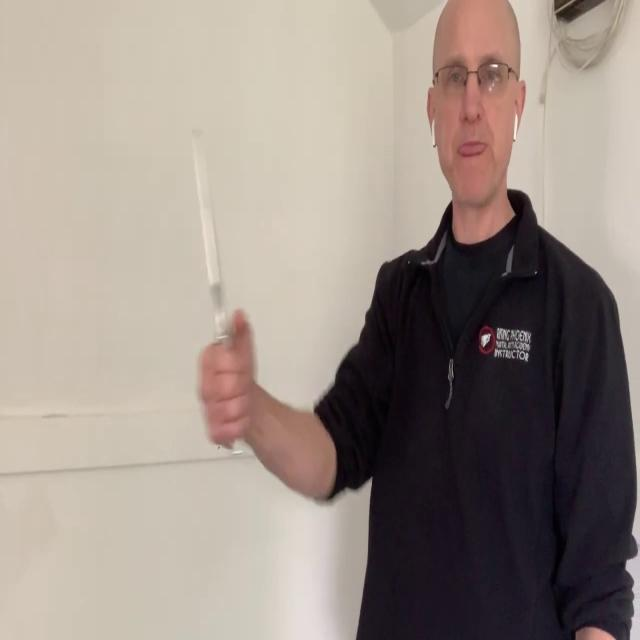Knife_Handle: (193, 131, 254, 449)
